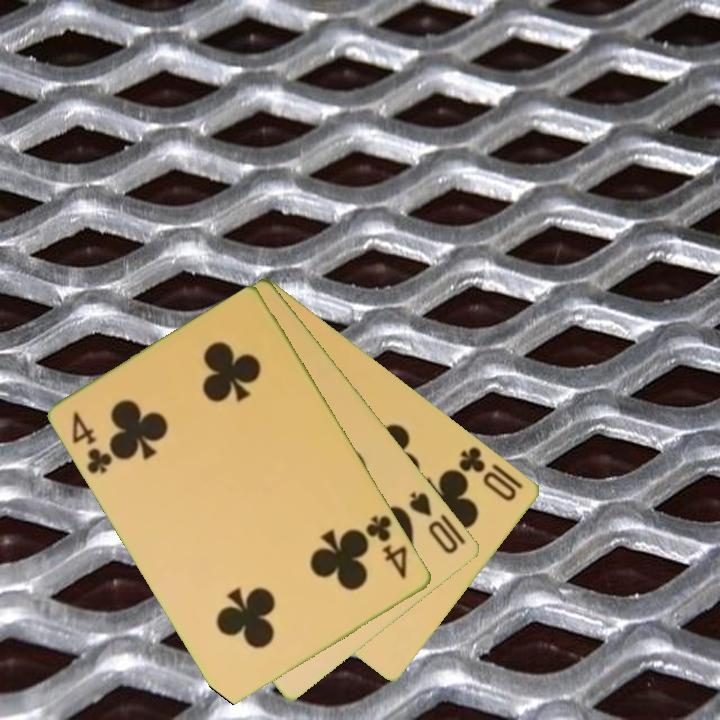10c: (455, 442, 520, 505)
10s: (406, 488, 462, 557)
4c: (362, 511, 411, 582), (68, 408, 116, 478)
